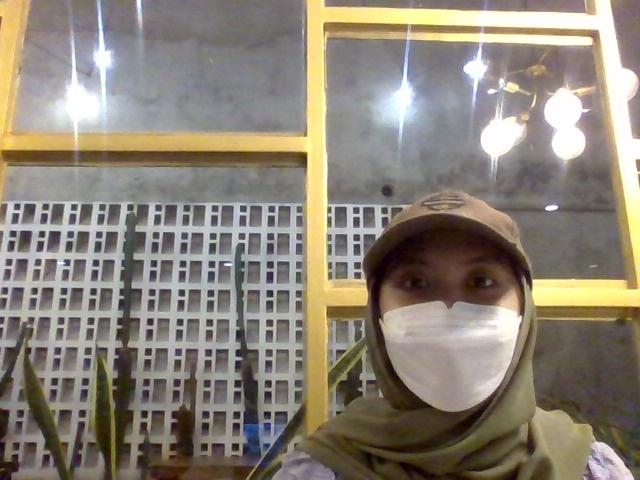Awake: (338, 186, 551, 470)
